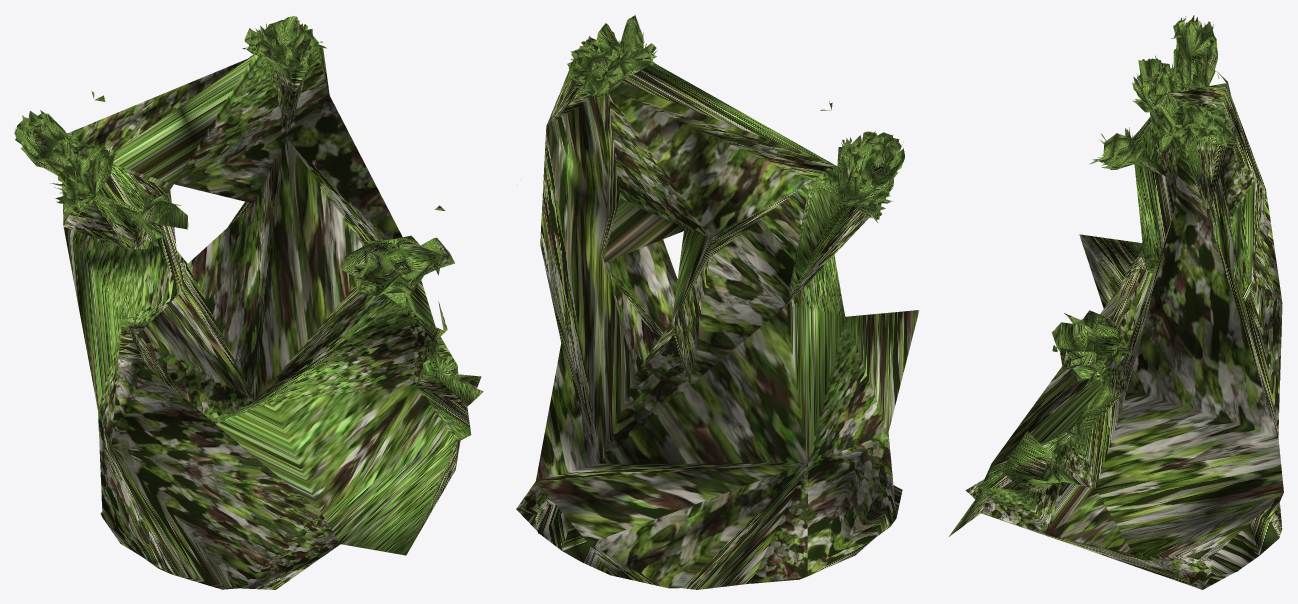
Rendered from Verdant_Ring_of_Stone.glb.
3 renders of one model, left to right at view 1: azimuth 30°, elevation 25°; view 2: azimuth 150°, elevation 25°; view 3: azimuth 270°, elevation 25°, orthographic. The views are drawn at different scales.
Visible parts, largest first — view 1: Verdant_Ring_of_Stone; view 2: Verdant_Ring_of_Stone; view 3: Verdant_Ring_of_Stone.
Part boxes in pixels (bbox=[...]): Verdant_Ring_of_Stone: bbox=[14, 16, 483, 589]; Verdant_Ring_of_Stone: bbox=[516, 14, 919, 589]; Verdant_Ring_of_Stone: bbox=[949, 15, 1283, 589].
Bounding box in the file's own units: 1.68 × 1.89 × 1.28.
Materials: 1 (1 with a texture image).
